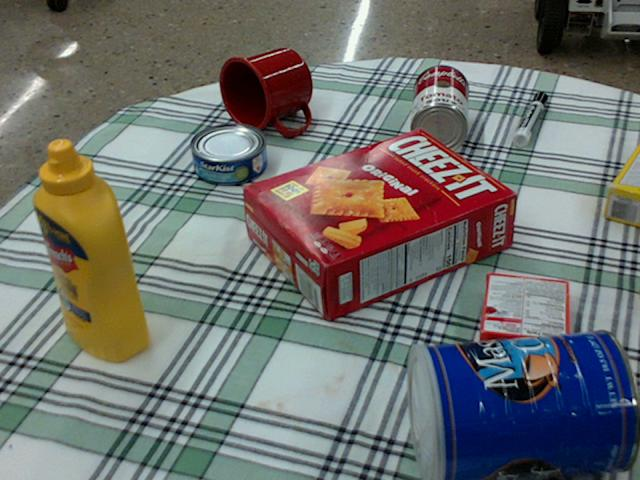cracker_box: (243, 130, 516, 321)
gelatin_box: (480, 273, 570, 360)
large_marker: (511, 92, 547, 145)
master_chef_can: (406, 327, 639, 479)
mug: (218, 48, 312, 133)
mustard_bottle: (33, 139, 149, 361)
potted_meat_can: (637, 284, 639, 300)
sugar_box: (606, 144, 639, 227)
tomato_soup_can: (409, 64, 468, 153)
tuna_fish_can: (188, 123, 266, 184)
